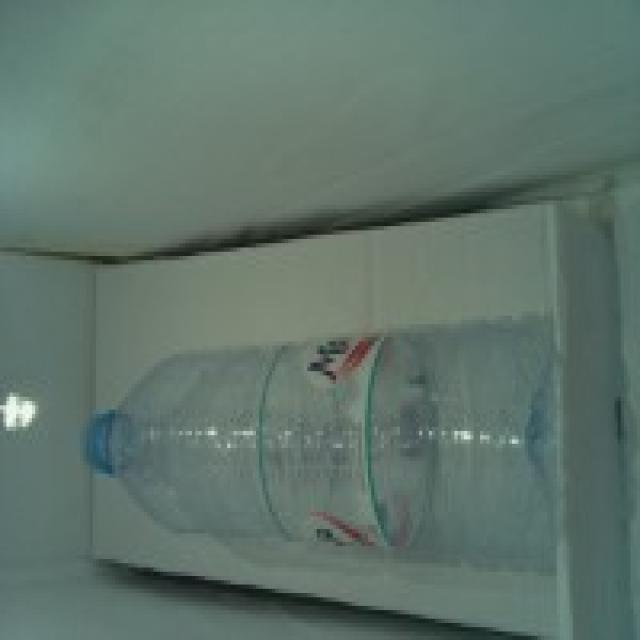Anorganik: (86, 307, 557, 585)
